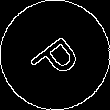P_NE: (24, 25, 86, 85)
